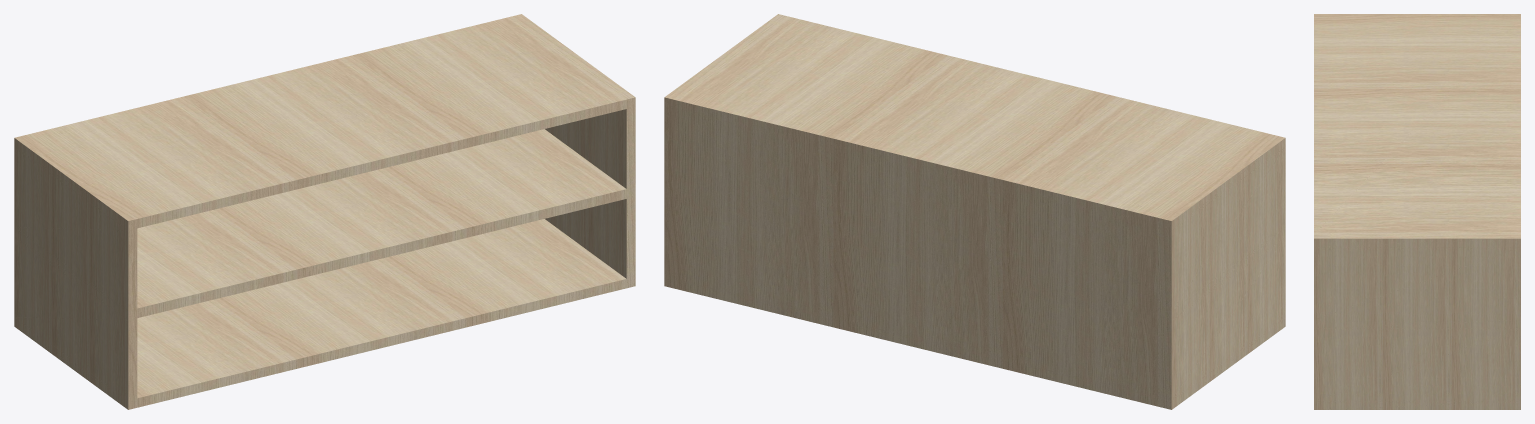
File: Estante.FBX
3 renders of one model, left to right at view 1: azimuth 30°, elevation 25°; view 2: azimuth 150°, elevation 25°; view 3: azimuth 270°, elevation 25°, orthographic. The views are drawn at different scales.
Visible parts, largest first — view 1: the footwear stand; view 2: the footwear stand; view 3: the footwear stand.
Boxes of the visible parts, box(x1,y1,x2,y2) form: the footwear stand: box(14, 14, 635, 409); the footwear stand: box(664, 14, 1285, 409); the footwear stand: box(1314, 14, 1520, 409).
Size of the model in its own units: 900 by 320 by 350.
Materials: 1 (1 with a texture image).
